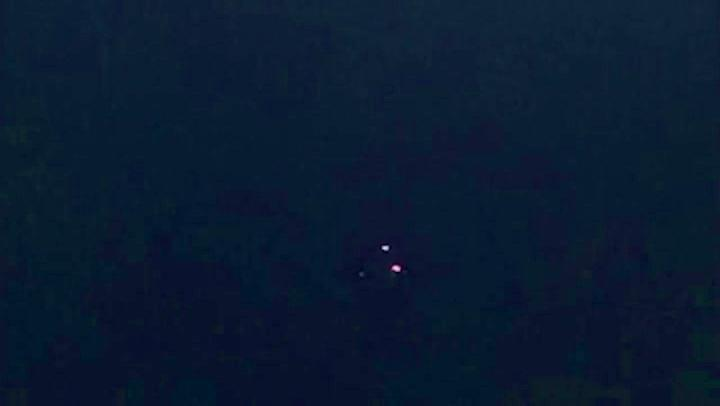Plane: (341, 235, 425, 292)
